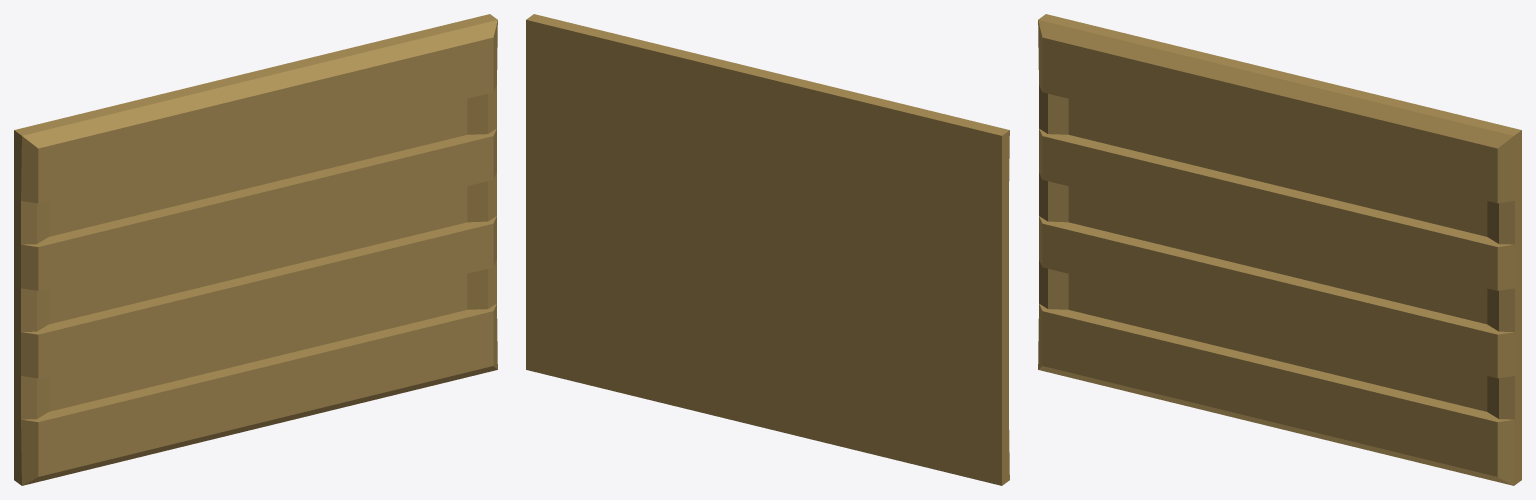
File: FuseKey.fbx
3 views of the same model, side by side, from view 1: azimuth 30°, elevation 25°; view 2: azimuth 150°, elevation 25°; view 3: azimuth 330°, elevation 25° (orthographic).
Parts seen in each view (by area): view 1: FuseArray; view 2: FuseArray; view 3: FuseArray.
Boxes of the visible parts, x1,y1,x2,y2 form: FuseArray: (14,14,497,485); FuseArray: (526,14,1009,485); FuseArray: (1038,14,1521,485).
Bounding box in the file's own units: 8.66 × 6.09 × 0.438.
